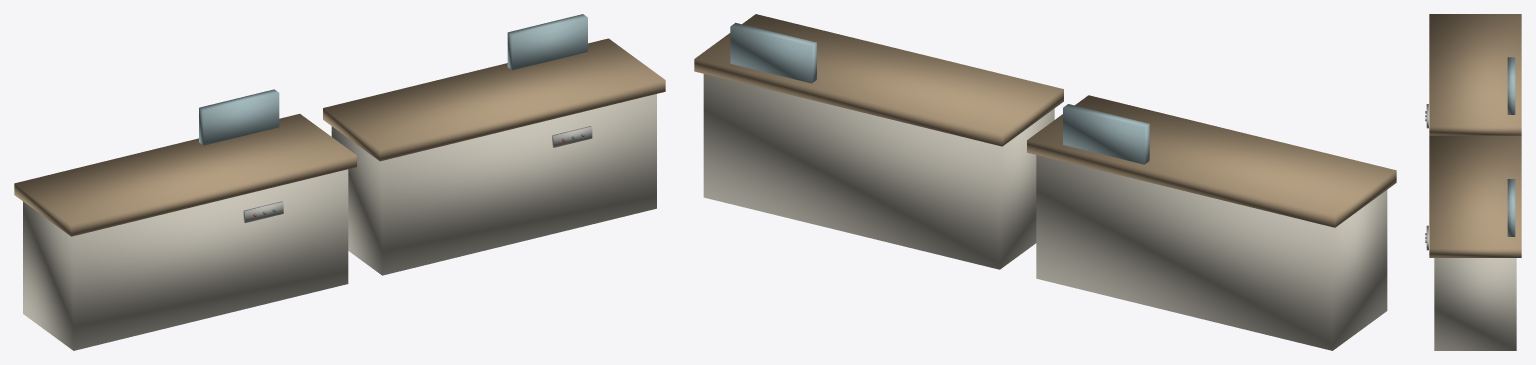
File: service_counter__cluster.glb
The picture shows the model from 3 angles, left to right: view 1: azimuth 30°, elevation 25°; view 2: azimuth 150°, elevation 25°; view 3: azimuth 270°, elevation 25°; orthographic projection. The views are drawn at different scales.
Visible parts, largest first — view 1: world; view 2: world; view 3: world.
Part boxes in pixels (left/top/right/bottom): world: left=14, top=14, right=665, bottom=350; world: left=694, top=14, right=1396, bottom=350; world: left=1425, top=14, right=1521, bottom=350.
Bounding box in the file's own units: 4.33 × 1.14 × 0.751.
